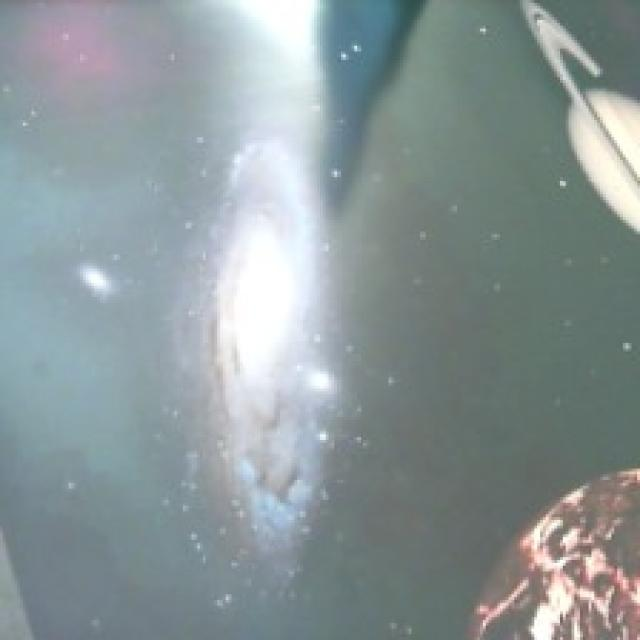Galaxy: (193, 126, 350, 606)
Saturn: (510, 0, 640, 244)
Sun: (460, 466, 640, 640)
